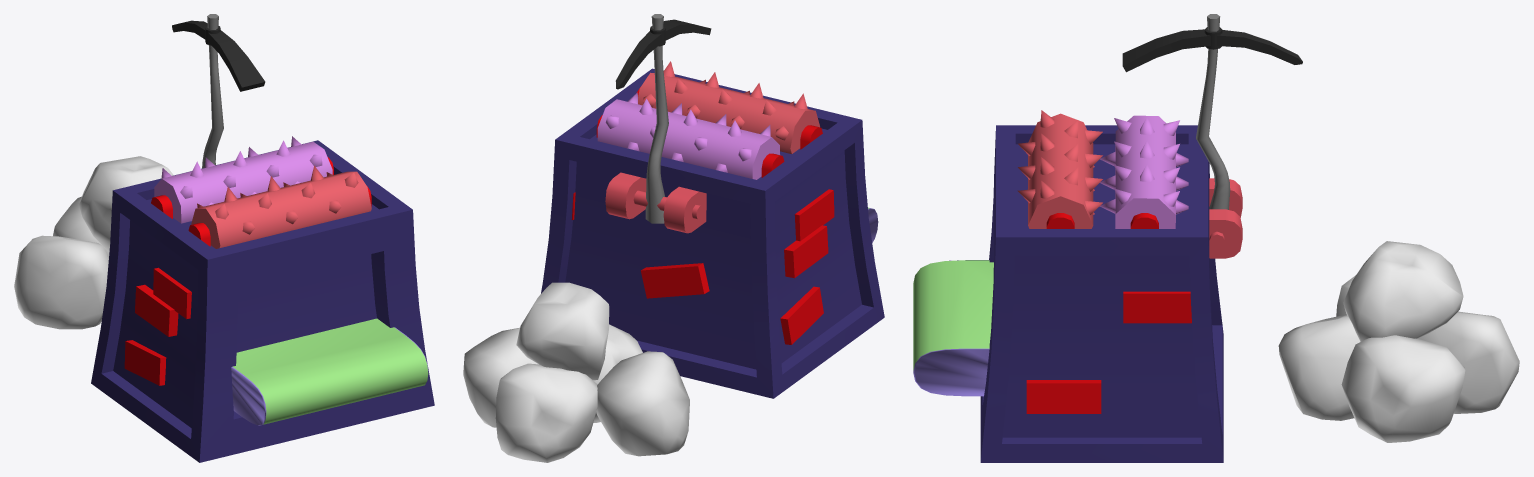
File: mine.fbx
The picture shows the model from 3 angles, left to right: view 1: azimuth 30°, elevation 25°; view 2: azimuth 150°, elevation 25°; view 3: azimuth 270°, elevation 25°; orthographic projection. The views are drawn at different scales.
Parts seen in each view (by area): view 1: rockLP.001, rockLP.004, Cylinder.004, Cylinder.003, Plane.002; view 2: rockLP.001, rockLP.004, Cylinder.003, Cylinder.004, Plane.002; view 3: rockLP.001, rockLP.004, Cylinder.003, Cylinder.004, Plane.002.
Part boxes in pixels (box(x1,y1,x2,y2)): rockLP.001: box(91, 140, 434, 462); rockLP.004: box(14, 156, 173, 329); Cylinder.004: box(191, 165, 371, 248); Cylinder.003: box(154, 136, 332, 223); Plane.002: box(172, 14, 265, 168); rockLP.001: box(541, 68, 884, 398); rockLP.004: box(463, 282, 689, 462); Cylinder.003: box(597, 92, 779, 179); Cylinder.004: box(638, 61, 819, 153); Plane.002: box(615, 14, 711, 223); rockLP.001: box(913, 125, 1242, 462); rockLP.004: box(1278, 241, 1519, 442); Cylinder.003: box(1100, 115, 1188, 228); Cylinder.004: box(1017, 110, 1102, 228); Plane.002: box(1122, 14, 1302, 209).
Size of the model in its own units: 96 by 134 by 192.
